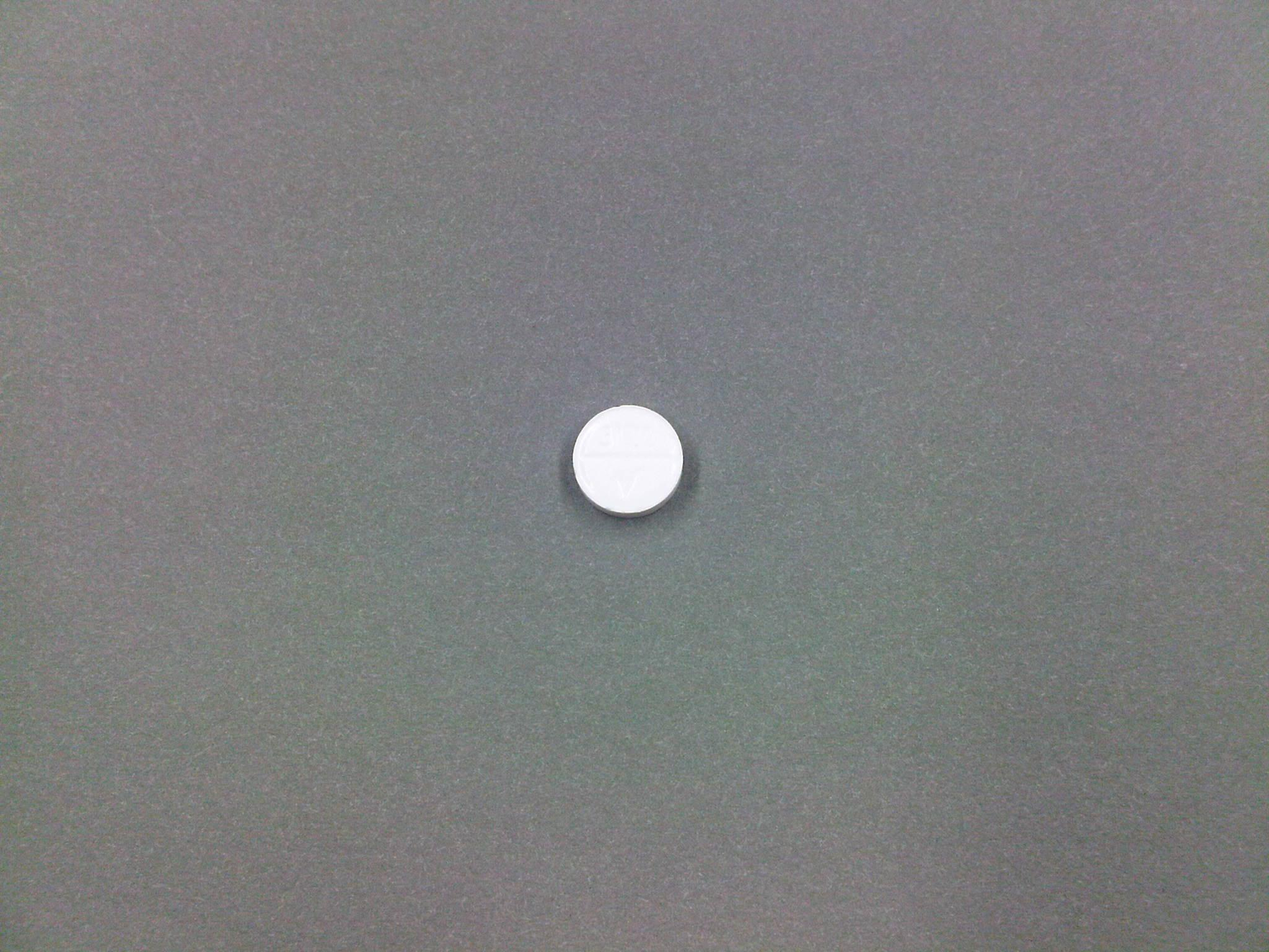Pill: (564, 398, 691, 524)
